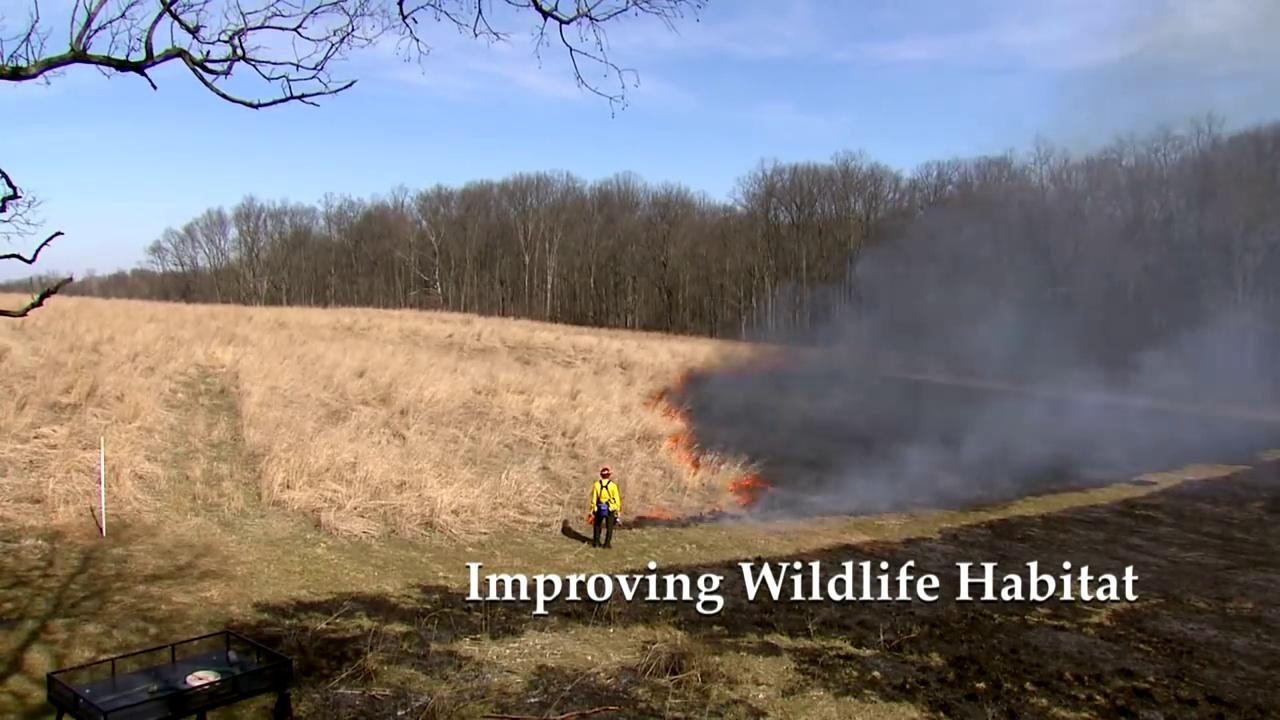Fire: (728, 479, 764, 507)
